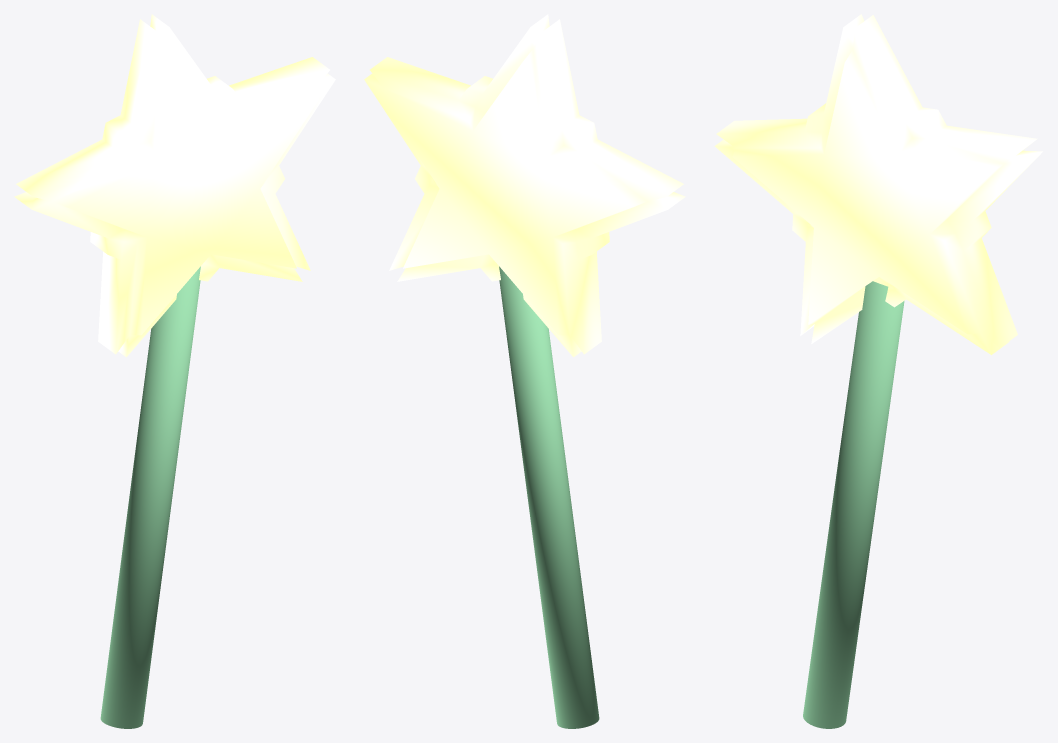
File: star_sprout.glb
3 renders of one model, left to right at view 1: azimuth 30°, elevation 25°; view 2: azimuth 150°, elevation 25°; view 3: azimuth 330°, elevation 25°, orthographic. The views are drawn at different scales.
Parts seen in each view (by area): view 1: Star, Cylinder; view 2: Star, Cylinder; view 3: Star, Cylinder.
Part boxes in pixels (x1,y1,x2,y2): Star: (14,14,335,357); Cylinder: (100,266,200,728); Star: (364,14,685,357); Cylinder: (499,266,599,728); Star: (714,14,1042,354); Cylinder: (803,281,904,728).
Size of the model in its own units: 0.296 by 0.6452 by 0.06.
